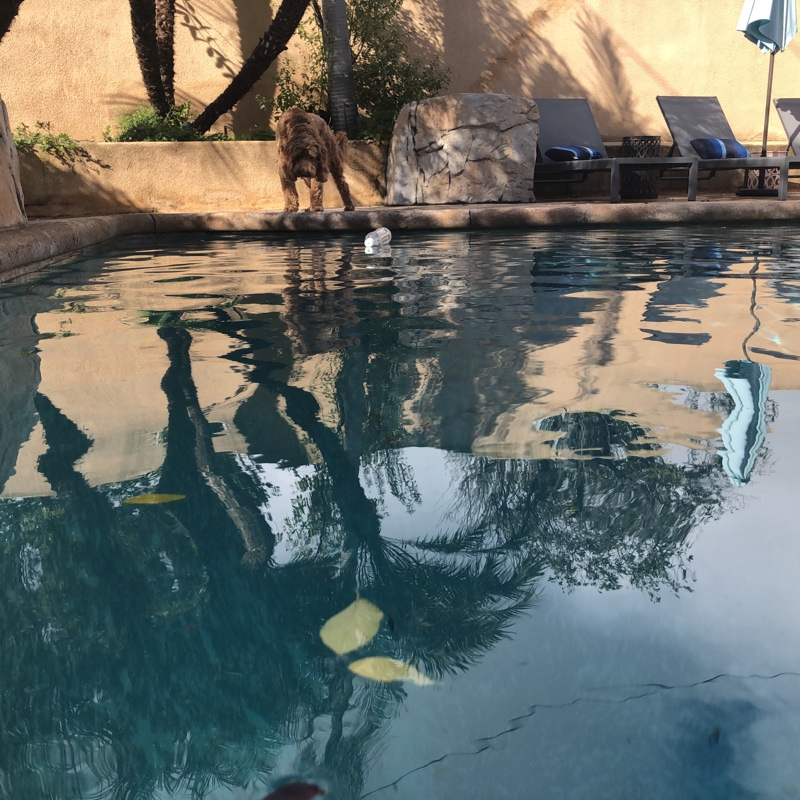Plastic Bottle: (361, 230, 389, 247)
